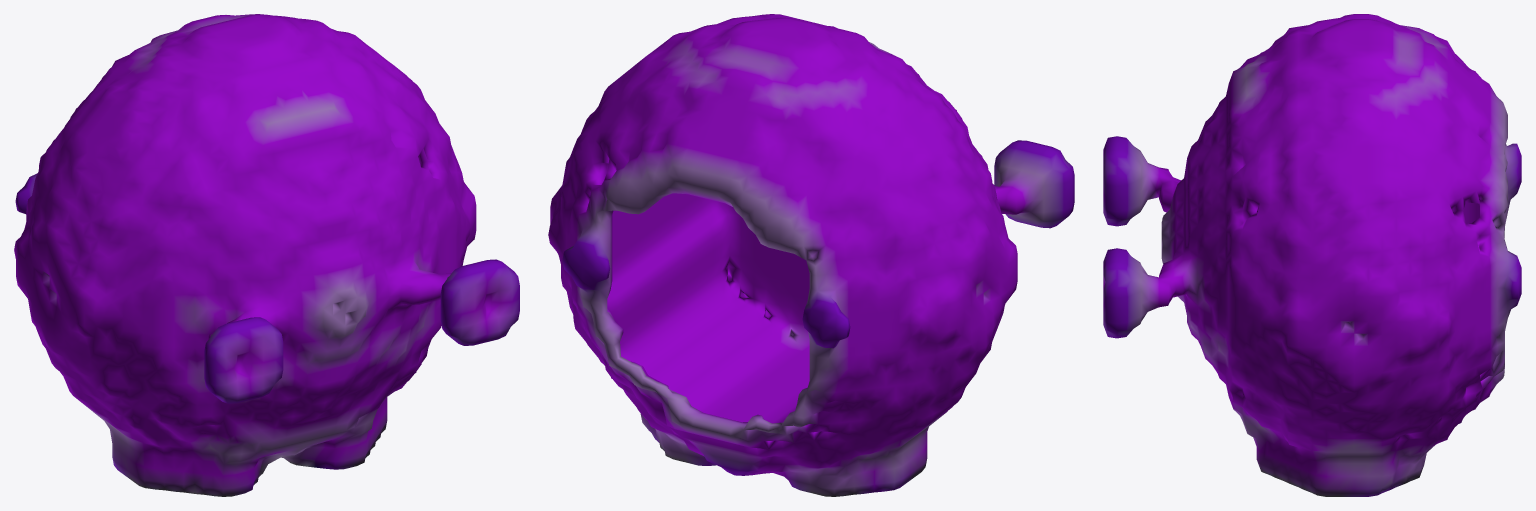
3 renders of one model, left to right at view 1: azimuth 30°, elevation 25°; view 2: azimuth 150°, elevation 25°; view 3: azimuth 270°, elevation 25°, orthographic. The views are drawn at different scales.
Bounding box in the file's own units: 1.6 × 1.6 × 1.5.
